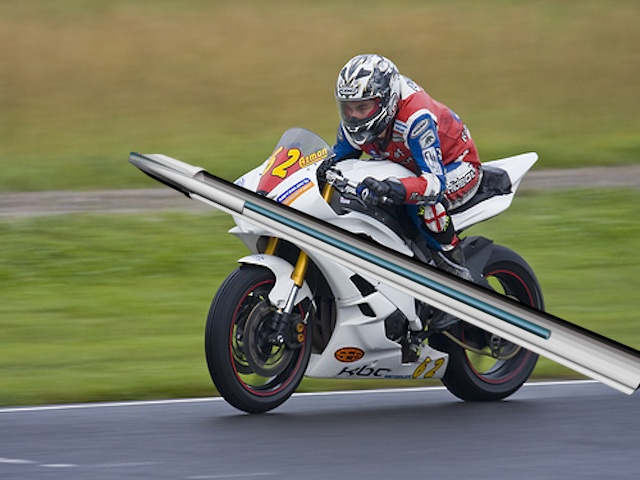pen: (128, 144, 640, 400)
